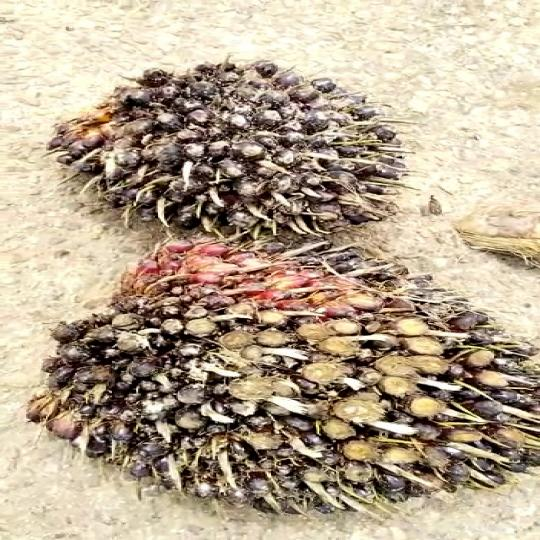mentah: (27, 214, 535, 512), (56, 58, 442, 253)
